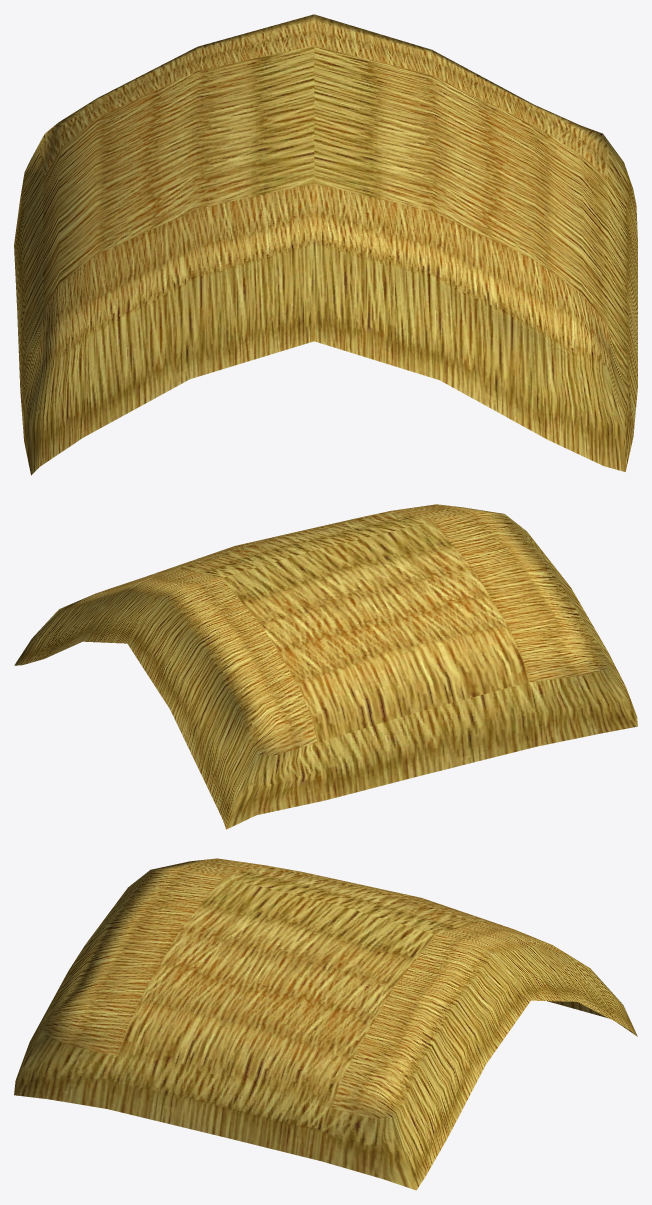
Rendered from HTOWN01_HANNASHEDROOF.fbx.
3 renders of one model, top to bottom at view 1: azimuth 30°, elevation 25°; view 2: azimuth 150°, elevation 25°; view 3: azimuth 270°, elevation 25°, orthographic. The views are drawn at different scales.
Visible parts, largest first — view 1: HTOWN01_HANNASHEDROOF; view 2: HTOWN01_HANNASHEDROOF; view 3: HTOWN01_HANNASHEDROOF.
Boxes of the visible parts, x1=… form: HTOWN01_HANNASHEDROOF: x1=14, y1=14, x2=637, y2=475; HTOWN01_HANNASHEDROOF: x1=14, y1=504, x2=637, y2=829; HTOWN01_HANNASHEDROOF: x1=14, y1=858, x2=637, y2=1190.
Size of the model in its own units: 51675 by 14880 by 52620.
Materials: 4 (4 with a texture image).
